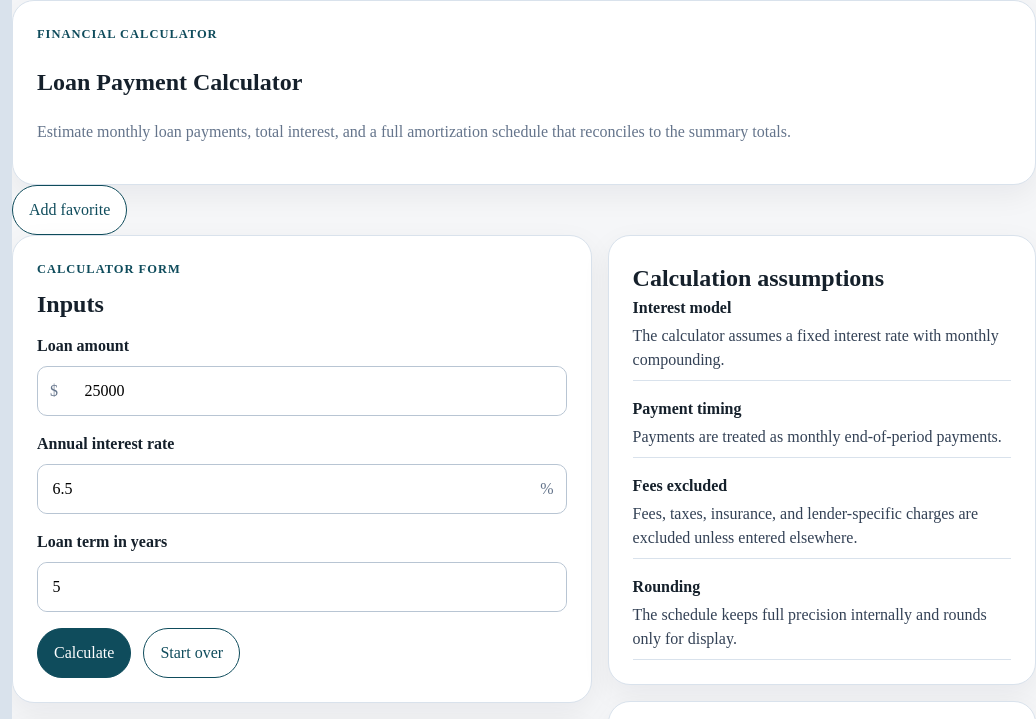
Test: calculator layout migration › loan calculator shows an empty state, calculates, and resets
This screenshot has width=1036, height=719.
Step 1. Click the button "Calculate" → (84,653), box [37,628,131,678]
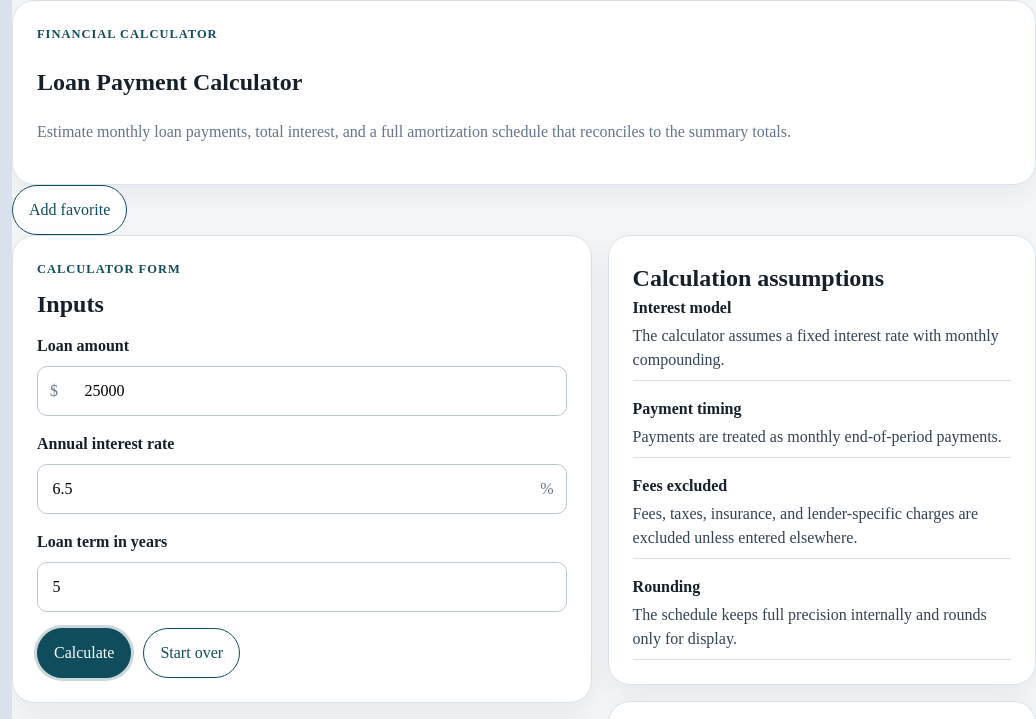
Expected: the heading "Calculation assumptions" is shown, [633,264,884,290]
Step 2. Click the button "Start over" → (192,653), box [143,628,240,678]
(page scrolled)
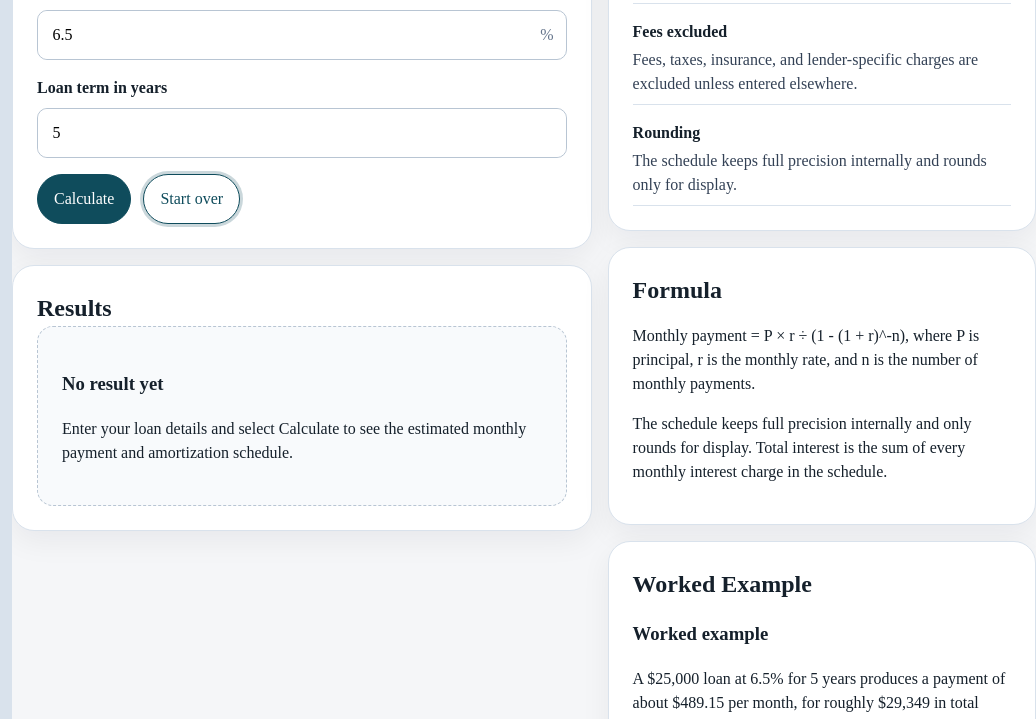
Expected: the heading "No result yet" is shown, [62,373,164,394]
